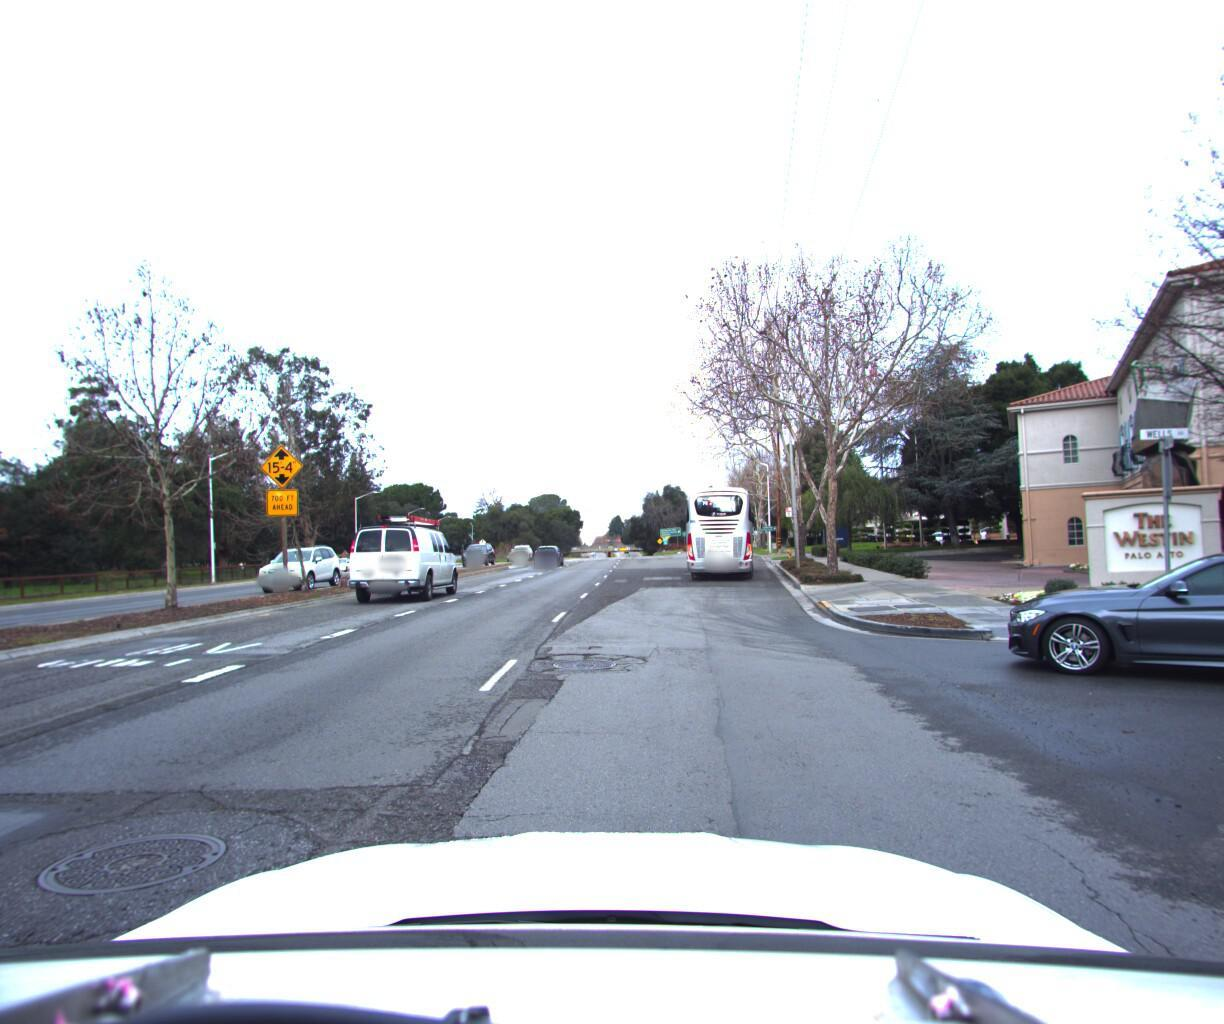bus: (677, 470, 760, 577)
car: (982, 525, 1224, 708), (336, 505, 467, 603), (250, 538, 350, 590), (458, 535, 496, 562), (533, 537, 563, 561), (508, 538, 532, 558), (329, 552, 360, 567)
